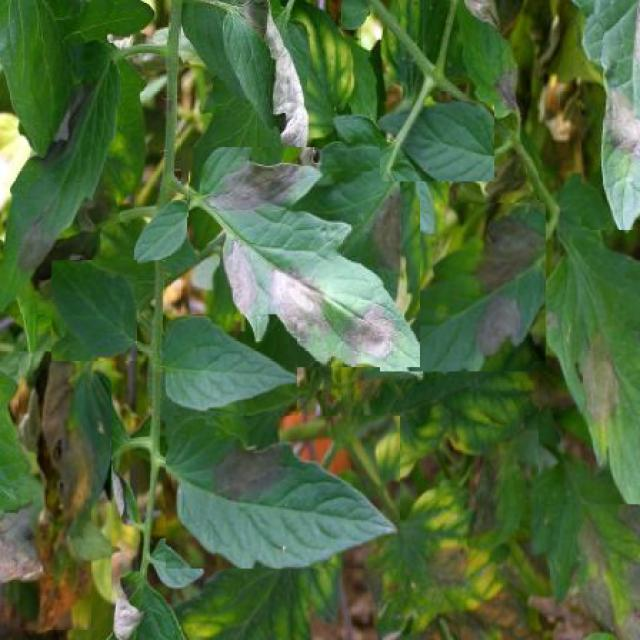Healthy: (165, 314, 298, 412), (380, 102, 494, 182), (51, 260, 138, 360), (134, 195, 187, 261)
Late Blight: (189, 148, 421, 368), (166, 416, 400, 568), (538, 170, 640, 505), (0, 43, 120, 314), (380, 203, 546, 371), (18, 351, 112, 630), (581, 0, 640, 230), (454, 7, 526, 127)
